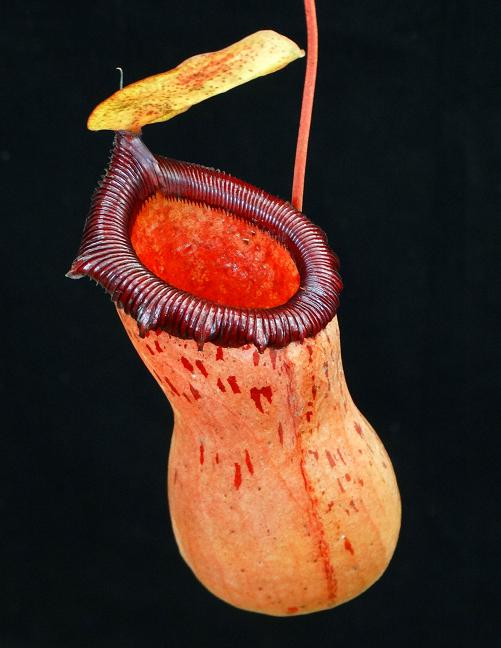ventricosa: (67, 11, 420, 629)
